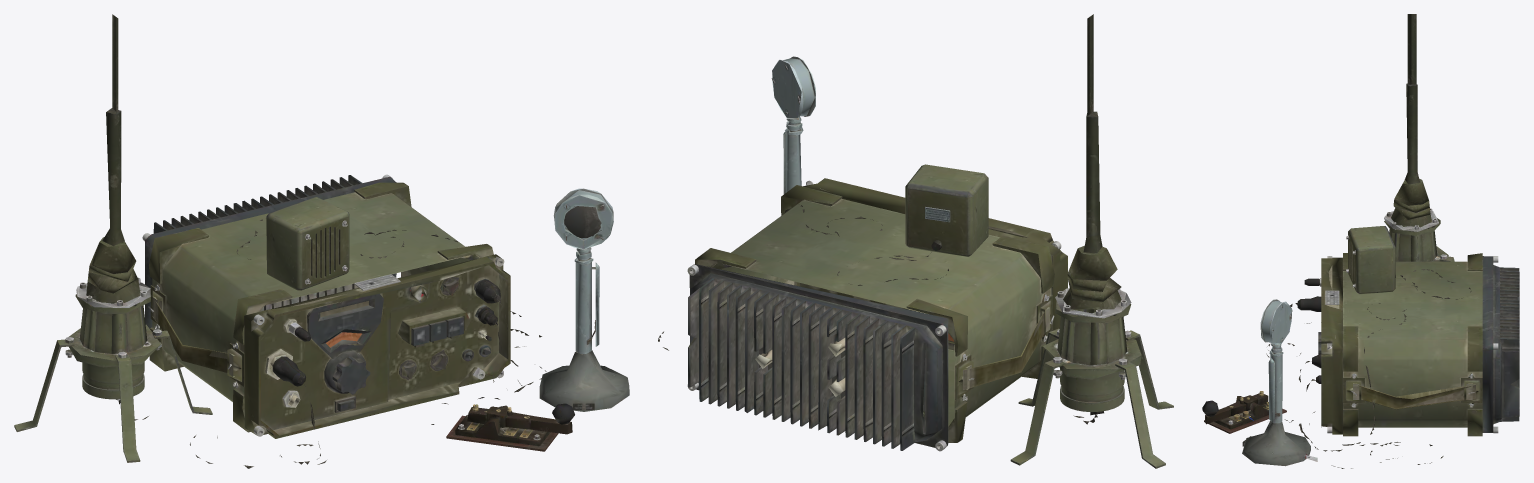
File: radio.glb
3 renders of one model, left to right at view 1: azimuth 30°, elevation 25°; view 2: azimuth 150°, elevation 25°; view 3: azimuth 270°, elevation 25°, orthographic. The views are drawn at different scales.
Parts seen in each view (by area): view 1: vintage_radio_transceiver, vintage_radio_transceiver_antenna, vintage_radio_transceiver_microphone, vintage_radio_transceiver_speaker, vintage_radio_transceiver_morse_key_base, vintage_radio_transceiver_morse_key_arm, vintage_radio_transceiver_dial, vintage_radio_transceiver_antenna_plug_a, vintage_radio_transceiver_cables; view 2: vintage_radio_transceiver, vintage_radio_transceiver_antenna, vintage_radio_transceiver_speaker, vintage_radio_transceiver_microphone; view 3: vintage_radio_transceiver, vintage_radio_transceiver_antenna, vintage_radio_transceiver_microphone, vintage_radio_transceiver_speaker, vintage_radio_transceiver_morse_key_base, vintage_radio_transceiver_morse_key_arm, vintage_radio_transceiver_cables.
Boxes of the visible parts, x1,y1,x2,y2 form: vintage_radio_transceiver: (142, 174, 510, 438); vintage_radio_transceiver_antenna: (14, 14, 212, 462); vintage_radio_transceiver_microphone: (539, 188, 629, 411); vintage_radio_transceiver_speaker: (266, 197, 349, 290); vintage_radio_transceiver_morse_key_base: (446, 405, 558, 451); vintage_radio_transceiver_morse_key_arm: (467, 403, 574, 434); vintage_radio_transceiver_dial: (324, 332, 370, 394); vintage_radio_transceiver_antenna_plug_a: (272, 356, 305, 386); vintage_radio_transceiver_cables: (134, 219, 546, 468); vintage_radio_transceiver: (687, 178, 1067, 451); vintage_radio_transceiver_antenna: (1010, 14, 1173, 468); vintage_radio_transceiver_speaker: (905, 164, 988, 256); vintage_radio_transceiver_microphone: (771, 56, 815, 194); vintage_radio_transceiver: (1321, 253, 1519, 436); vintage_radio_transceiver_antenna: (1384, 14, 1454, 261); vintage_radio_transceiver_microphone: (1242, 299, 1317, 466); vintage_radio_transceiver_speaker: (1346, 226, 1395, 294); vintage_radio_transceiver_morse_key_base: (1204, 396, 1286, 433); vintage_radio_transceiver_morse_key_arm: (1202, 391, 1268, 424); vintage_radio_transceiver_cables: (1266, 269, 1471, 468).
Bounding box in the file's own units: 0.5739 × 0.4344 × 0.4124.
Materials: 2 (2 with a texture image).
